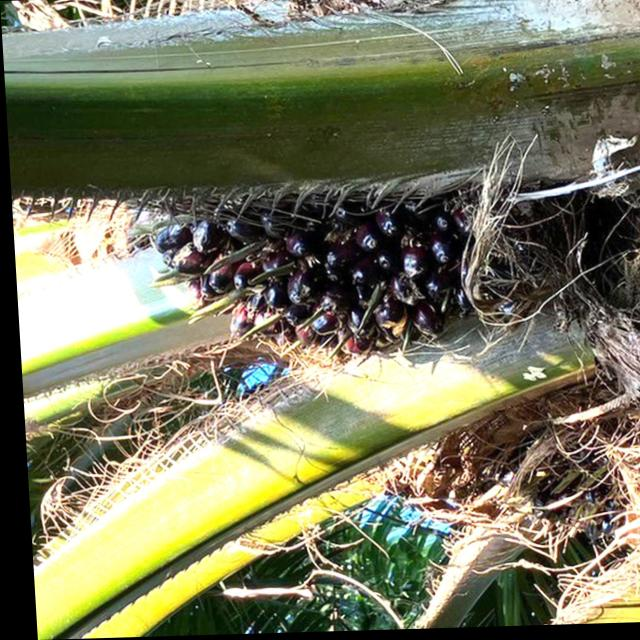almost: (117, 181, 522, 376)
